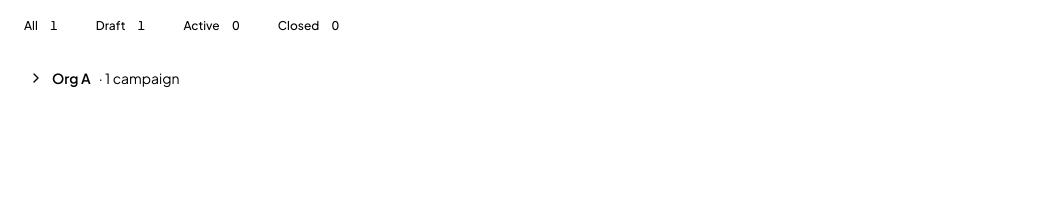
it: CampaignsListWithFilter — grouped by company › shows empty hint for DRAFT campaign with total=0 metrics
Click the button "Org A · 1 campaign" at (71, 78), box [12,56,1036,100]
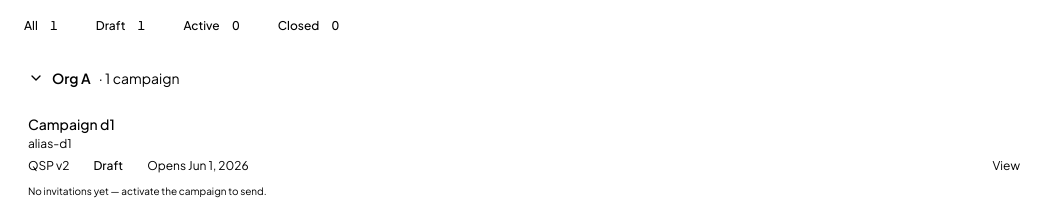
Expected: the text "No invitations yet — activate the campaign to send." is shown, [28,184,267,199]
